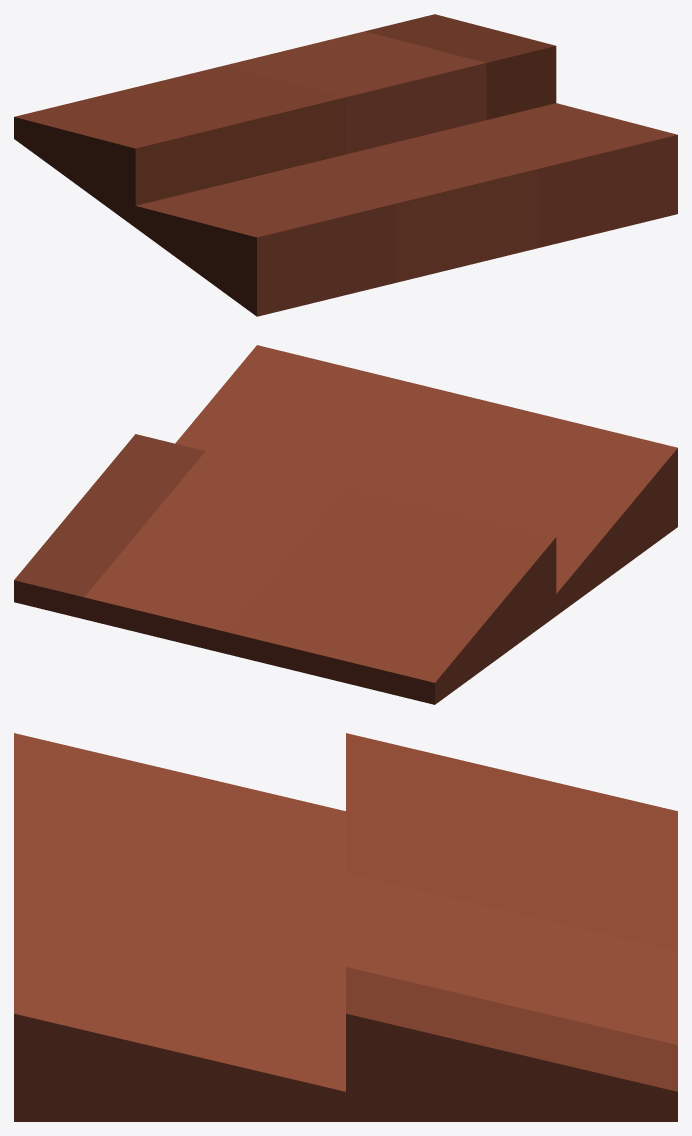
The model's file is roof.glb.
3 renders of one model, top to bottom at view 1: azimuth 30°, elevation 25°; view 2: azimuth 150°, elevation 25°; view 3: azimuth 270°, elevation 25°, orthographic. The views are drawn at different scales.
Visible parts, largest first — view 1: roof; view 2: roof; view 3: roof.
Part boxes in pixels (x1,y1,x2,y2): roof: (14,14,677,316); roof: (14,345,677,704); roof: (14,733,677,1121).
Bounding box in the file's own units: 1 × 0.18 × 1.
